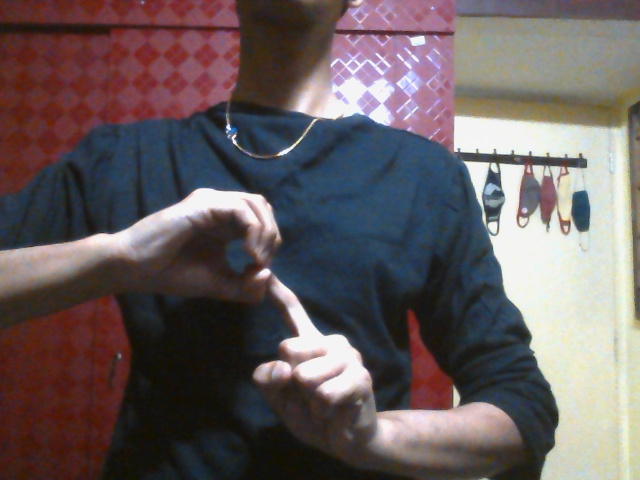Q: (141, 185, 378, 461)
